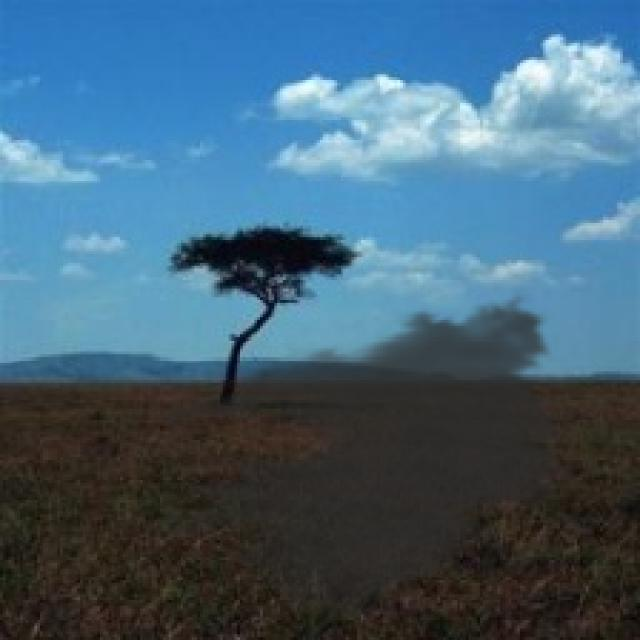Smoke: (165, 286, 586, 632)
